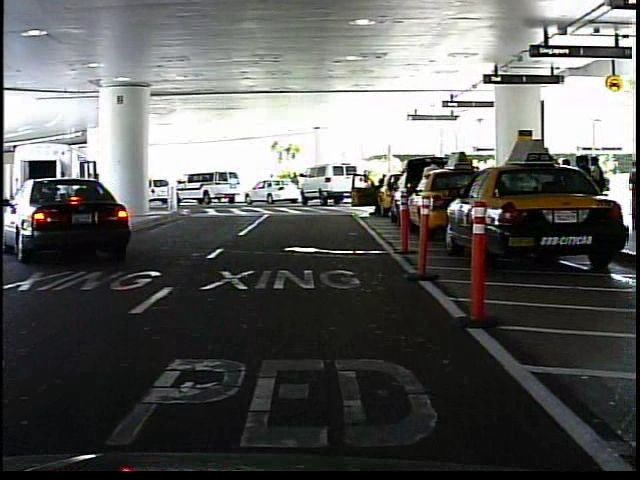person: (624, 160, 639, 230), (368, 169, 386, 220), (596, 165, 615, 205), (289, 169, 303, 202), (269, 173, 278, 181)
